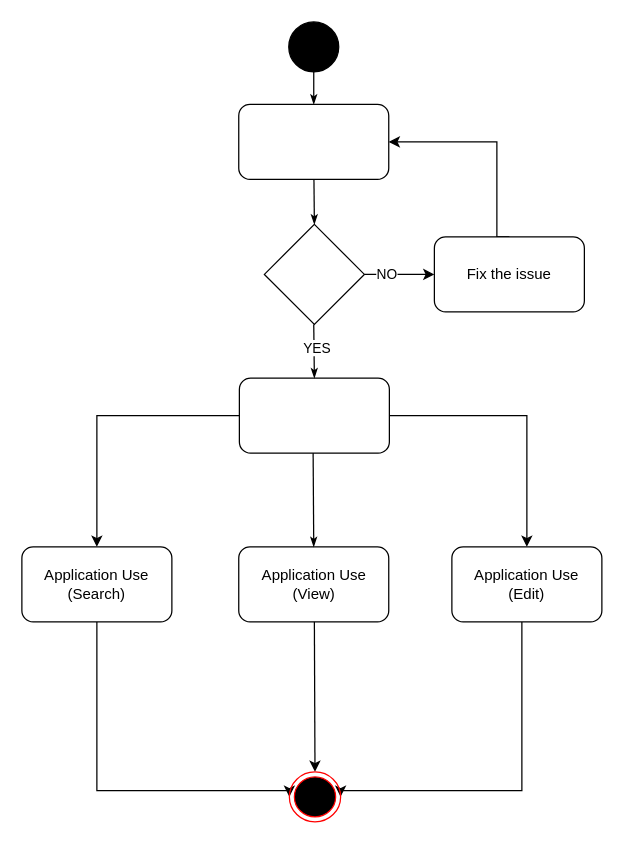
Image size: 624x844. Some labels were removed from this diagram. The centre of each missing label's shape, as x and y in pixels:
Run batch to load data from text file: pixel 313 141
Save Data Into DB: pixel 313 415
Success: pixel 313 273
